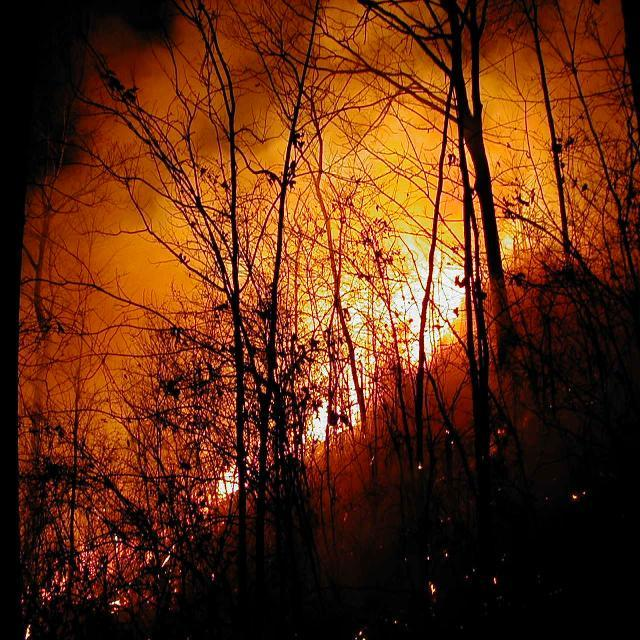Fire: (304, 252, 472, 366), (292, 362, 382, 444), (479, 220, 562, 298), (207, 428, 279, 516)
Smoke: (4, 8, 606, 520)
